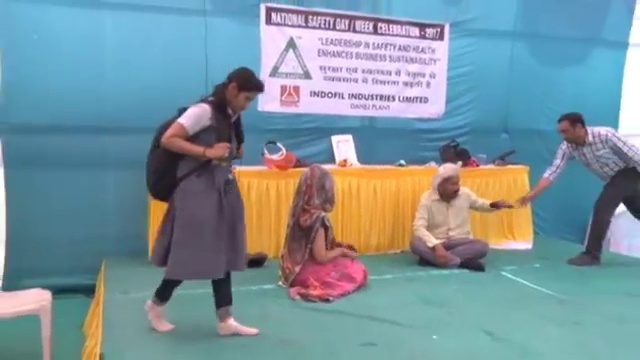helmet_off: (219, 67, 263, 114), (294, 165, 336, 211), (556, 112, 588, 147), (432, 165, 461, 203)
person: (141, 66, 265, 341), (516, 109, 640, 269), (407, 163, 514, 277), (282, 166, 369, 304)
